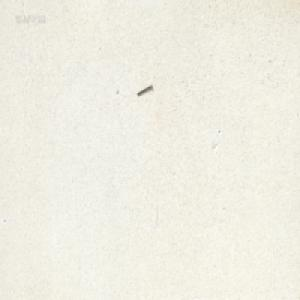Bolt: (135, 83, 152, 95)
